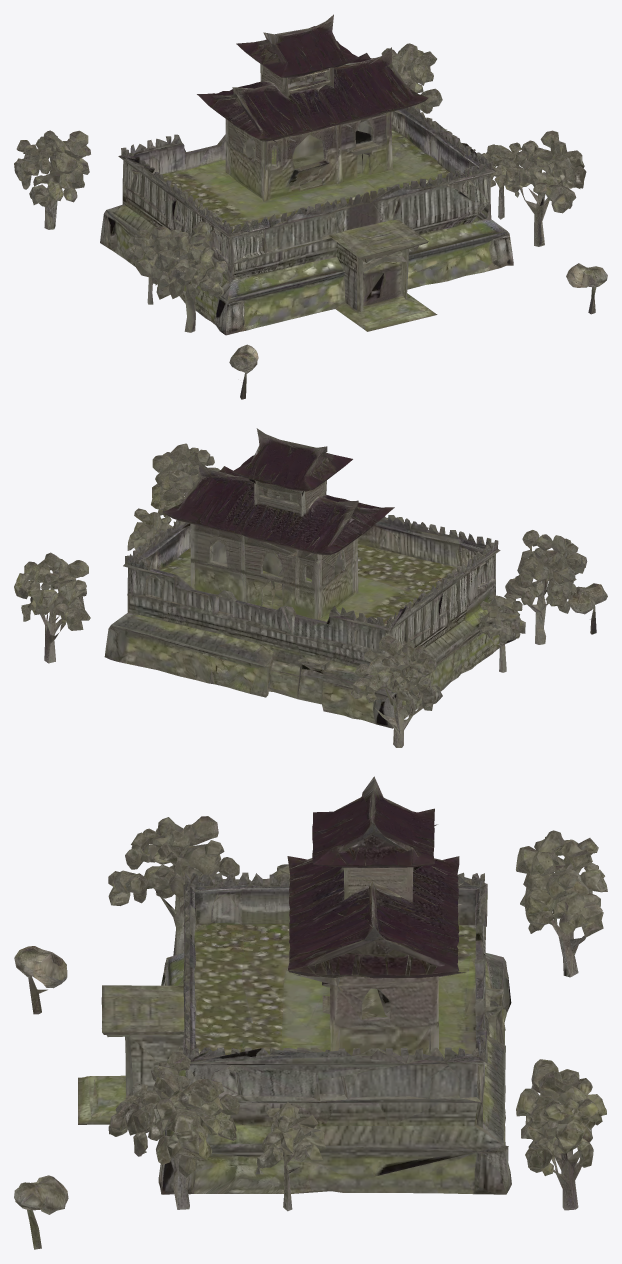
Rendered from fort.glb.
3 renders of one model, top to bottom at view 1: azimuth 30°, elevation 25°; view 2: azimuth 150°, elevation 25°; view 3: azimuth 270°, elevation 25°, orthographic. The views are drawn at different scales.
Visible parts, largest first — view 1: Mesh_0; view 2: Mesh_0; view 3: Mesh_0.
Part boxes in pixels (bbox=[...]): Mesh_0: bbox=[14, 14, 607, 399]; Mesh_0: bbox=[14, 428, 607, 747]; Mesh_0: bbox=[14, 776, 607, 1249].
Size of the model in its own units: 1.89 by 1.04 by 1.67.
Materials: 1 (1 with a texture image).
